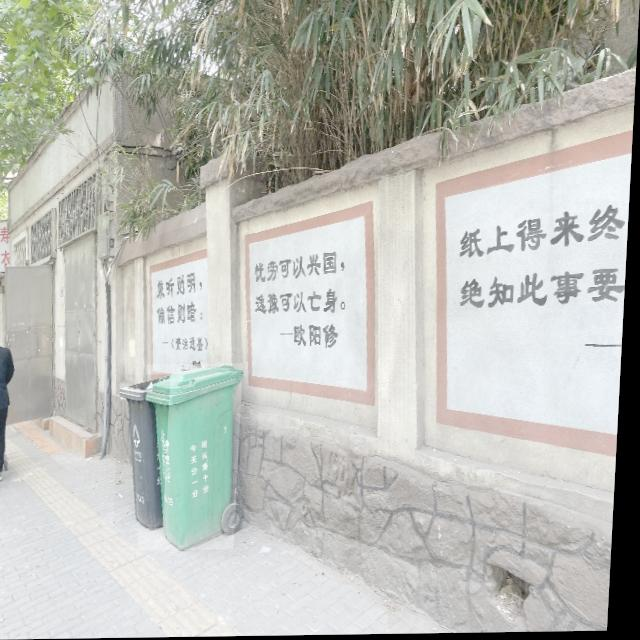garbage_bin: (144, 364, 248, 551), (118, 375, 175, 529)
